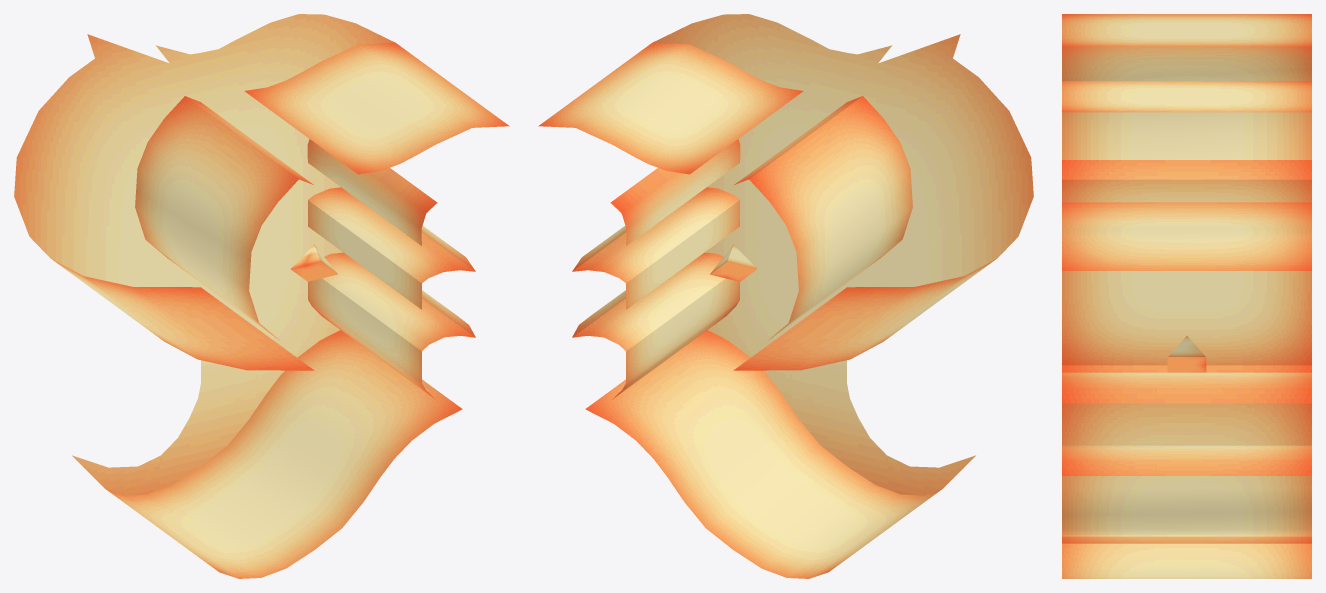
The model's file is ps2_save-icons_shaunpalmersprosnowboarder.glb.
The picture shows the model from 3 angles, left to right: view 1: azimuth 30°, elevation 25°; view 2: azimuth 150°, elevation 25°; view 3: azimuth 270°, elevation 25°; orthographic projection. The views are drawn at different scales.
Visible parts, largest first — view 1: alien1.ico; view 2: alien1.ico; view 3: alien1.ico.
Part boxes in pixels (x1,y1,x2,y2): alien1.ico: (14,14,509,578); alien1.ico: (538,14,1033,578); alien1.ico: (1062,14,1311,578).
Bounding box in the file's own units: 3.6 × 4.28 × 1.86.
Materials: 1 (1 with a texture image).
